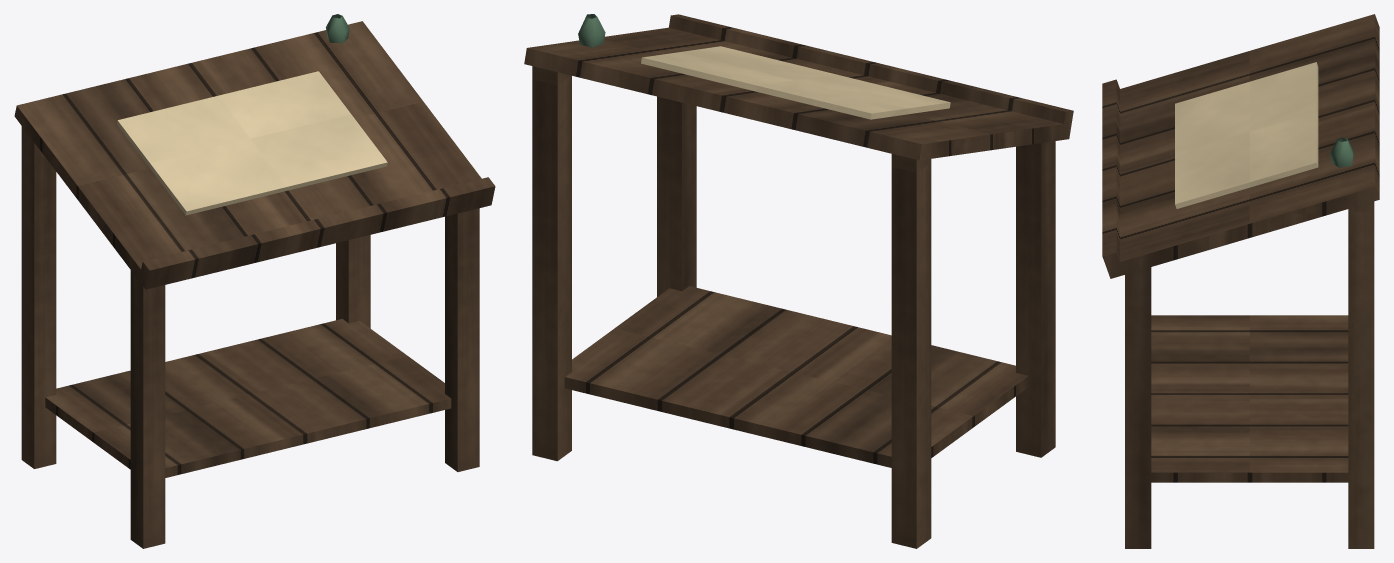
Rendered from Desk_Scribe_1_LOD1.gltf.
3 views of the same model, side by side, from view 1: azimuth 30°, elevation 25°; view 2: azimuth 150°, elevation 25°; view 3: azimuth 270°, elevation 25° (orthographic). The views are drawn at different scales.
Parts seen in each view (by area): view 1: Desk_Scribe_1_LOD1; view 2: Desk_Scribe_1_LOD1; view 3: Desk_Scribe_1_LOD1.
Boxes of the visible parts, x1,y1,x2,y2 form: Desk_Scribe_1_LOD1: [14, 14, 495, 548]; Desk_Scribe_1_LOD1: [524, 14, 1073, 548]; Desk_Scribe_1_LOD1: [1102, 14, 1379, 548].
Size of the model in its own units: 1.1 by 1.16 by 0.7444.
3 materials, 3 textured.
